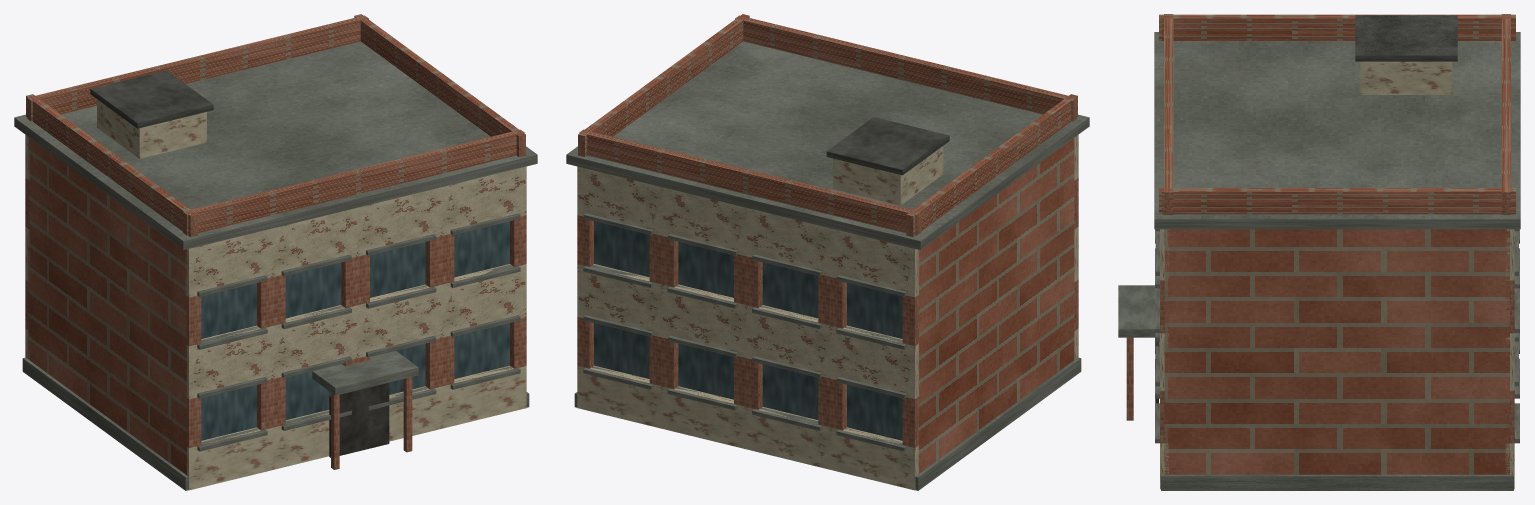
The model's file is industrial_admin_lod.gltf.
3 renders of one model, left to right at view 1: azimuth 30°, elevation 25°; view 2: azimuth 150°, elevation 25°; view 3: azimuth 270°, elevation 25°, orthographic. The views are drawn at different scales.
Parts seen in each view (by area): view 1: industrial_admin_lod; view 2: industrial_admin_lod; view 3: industrial_admin_lod.
Boxes of the visible parts, x1,y1,x2,y2 form: industrial_admin_lod: (14,14,537,490); industrial_admin_lod: (566,14,1089,490); industrial_admin_lod: (1118,14,1520,490).
Bounding box in the file's own units: 11.55 × 9.09 × 10.49.
Materials: 1 (1 with a texture image).
